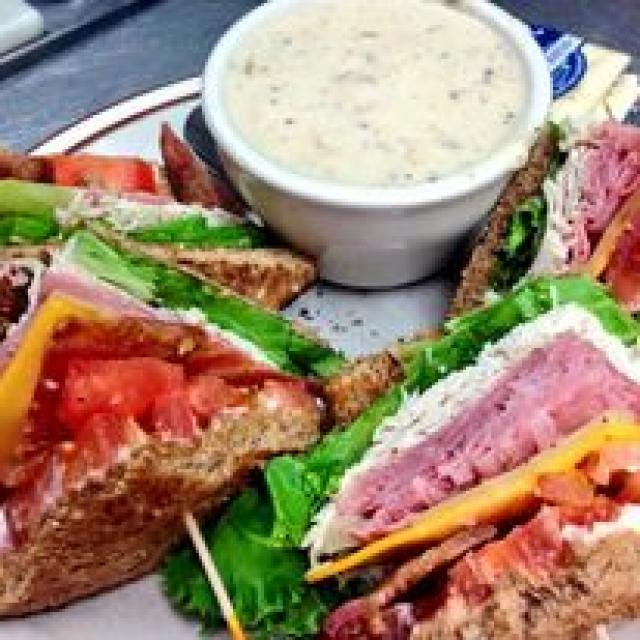Sandwich: (0, 117, 638, 640)
